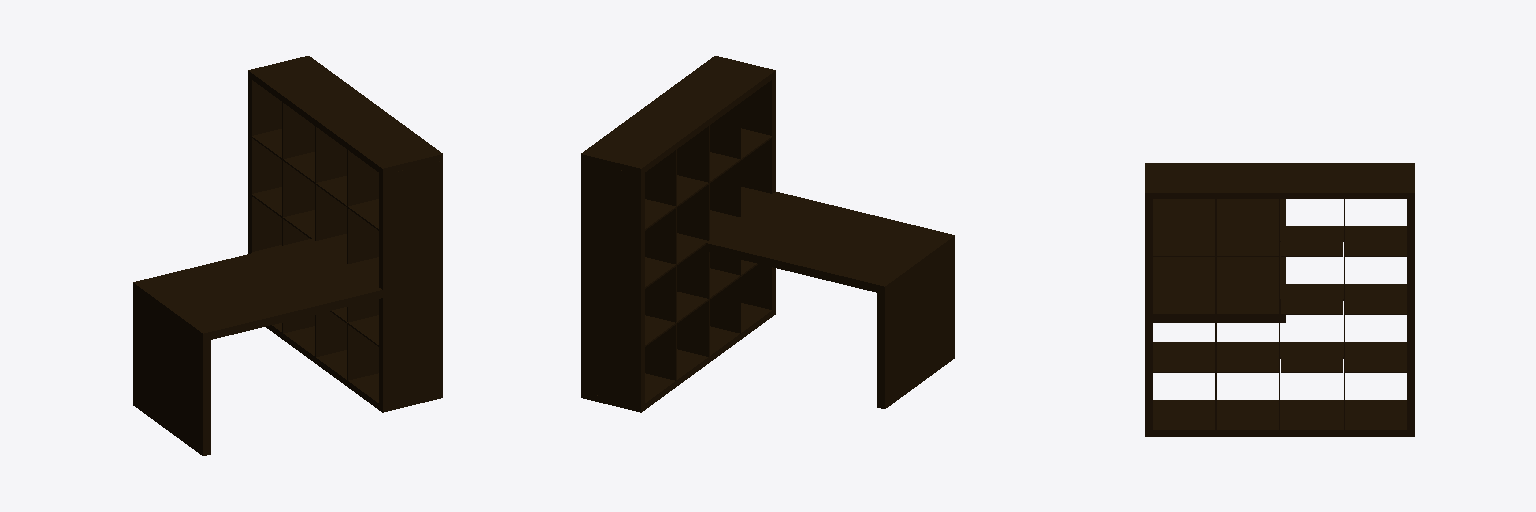
The picture shows the model from 3 angles: view 1: azimuth 30°, elevation 25°; view 2: azimuth 150°, elevation 25°; view 3: azimuth 270°, elevation 25°; orthographic projection.
Parts seen in each view (by area): view 1: Mesh4 Group6 Group4 Group3 EXPEDIT_149_X_[number redacted]_10_05_19_40_11_, Mesh1 Group2 Group1 Model, Mesh5 Group7 Group4 Group3 EXPEDIT_149_X_[number redacted]_10_05_19_40_11_, Mesh13 Group1 Model, Mesh8 Group12 Group10 Group9 Group3 EXPEDIT_149_X_[number redacted]_10_05_, Mesh2 Group5 Group4 Group3 EXPEDIT_149_X_[number redacted]_10_05_19_40_11_, Mesh9 Group13 Group10 Group9 Group3 EXPEDIT_149_X_[number redacted]_10_05_, Mesh7 Group11 Group10 Group9 Group3 EXPEDIT_149_X_[number redacted]_10_05_, Mesh6 Group8 Group4 Group3 EXPEDIT_149_X_[number redacted]_10_05_19_40_11_, Mesh10 Group15 Group14 Group9 Group3 EXPEDIT_149_X_[number redacted]_10_05, Mesh12 Group17 Group14 Group9 Group3 EXPEDIT_149_X_[number redacted]_10_05, Mesh11 Group16 Group14 Group9 Group3 EXPEDIT_149_X_[number redacted]_10_05; view 2: Mesh2 Group5 Group4 Group3 EXPEDIT_149_X_[number redacted]_10_05_19_40_11_, Mesh1 Group2 Group1 Model, Mesh5 Group7 Group4 Group3 EXPEDIT_149_X_[number redacted]_10_05_19_40_11_, Mesh13 Group1 Model, Mesh9 Group13 Group10 Group9 Group3 EXPEDIT_149_X_[number redacted]_10_05_, Mesh7 Group11 Group10 Group9 Group3 EXPEDIT_149_X_[number redacted]_10_05_, Mesh8 Group12 Group10 Group9 Group3 EXPEDIT_149_X_[number redacted]_10_05_, Mesh4 Group6 Group4 Group3 EXPEDIT_149_X_[number redacted]_10_05_19_40_11_, Mesh6 Group8 Group4 Group3 EXPEDIT_149_X_[number redacted]_10_05_19_40_11_, Mesh10 Group15 Group14 Group9 Group3 EXPEDIT_149_X_[number redacted]_10_05, Mesh12 Group17 Group14 Group9 Group3 EXPEDIT_149_X_[number redacted]_10_05, Mesh11 Group16 Group14 Group9 Group3 EXPEDIT_149_X_[number redacted]_10_05; view 3: Mesh5 Group7 Group4 Group3 EXPEDIT_149_X_[number redacted]_10_05_19_40_11_, Mesh6 Group8 Group4 Group3 EXPEDIT_149_X_[number redacted]_10_05_19_40_11_, Mesh11 Group16 Group14 Group9 Group3 EXPEDIT_149_X_[number redacted]_10_05, Mesh12 Group17 Group14 Group9 Group3 EXPEDIT_149_X_[number redacted]_10_05, Mesh10 Group15 Group14 Group9 Group3 EXPEDIT_149_X_[number redacted]_10_05, Mesh1 Group2 Group1 Model, Mesh2 Group5 Group4 Group3 EXPEDIT_149_X_[number redacted]_10_05_19_40_11_, Mesh4 Group6 Group4 Group3 EXPEDIT_149_X_[number redacted]_10_05_19_40_11_, Mesh13 Group1 Model.
Part boxes in pixels (x1,y1,x2,y2): Mesh4 Group6 Group4 Group3 EXPEDIT_149_X_[number redacted]_10_05_19_40_11_: (379, 161, 442, 405); Mesh1 Group2 Group1 Model: (133, 239, 382, 341); Mesh5 Group7 Group4 Group3 EXPEDIT_149_X_[number redacted]_10_05_19_40_11_: (248, 56, 442, 174); Mesh13 Group1 Model: (133, 291, 210, 455); Mesh8 Group12 Group10 Group9 Group3 EXPEDIT_149_X_[number redacted]_10_05_: (347, 150, 378, 380); Mesh2 Group5 Group4 Group3 EXPEDIT_149_X_[number redacted]_10_05_19_40_11_: (248, 77, 281, 253); Mesh9 Group13 Group10 Group9 Group3 EXPEDIT_149_X_[number redacted]_10_05_: (315, 126, 346, 356); Mesh7 Group11 Group10 Group9 Group3 EXPEDIT_149_X_[number redacted]_10_05_: (282, 102, 314, 333); Mesh6 Group8 Group4 Group3 EXPEDIT_149_X_[number redacted]_10_05_19_40_11_: (266, 323, 382, 412); Mesh10 Group15 Group14 Group9 Group3 EXPEDIT_149_X_[number redacted]_10_05: (252, 129, 378, 230); Mesh12 Group17 Group14 Group9 Group3 EXPEDIT_149_X_[number redacted]_10_05: (252, 187, 378, 286); Mesh11 Group16 Group14 Group9 Group3 EXPEDIT_149_X_[number redacted]_10_05: (252, 245, 378, 346); Mesh2 Group5 Group4 Group3 EXPEDIT_149_X_[number redacted]_10_05_19_40_11_: (581, 161, 644, 405); Mesh1 Group2 Group1 Model: (706, 192, 954, 294); Mesh5 Group7 Group4 Group3 EXPEDIT_149_X_[number redacted]_10_05_19_40_11_: (581, 56, 775, 174); Mesh13 Group1 Model: (877, 244, 954, 408); Mesh9 Group13 Group10 Group9 Group3 EXPEDIT_149_X_[number redacted]_10_05_: (677, 126, 709, 356); Mesh7 Group11 Group10 Group9 Group3 EXPEDIT_149_X_[number redacted]_10_05_: (645, 150, 676, 380); Mesh8 Group12 Group10 Group9 Group3 EXPEDIT_149_X_[number redacted]_10_05_: (710, 103, 740, 333); Mesh4 Group6 Group4 Group3 EXPEDIT_149_X_[number redacted]_10_05_19_40_11_: (741, 77, 775, 309); Mesh6 Group8 Group4 Group3 EXPEDIT_149_X_[number redacted]_10_05_19_40_11_: (581, 303, 775, 412); Mesh10 Group15 Group14 Group9 Group3 EXPEDIT_149_X_[number redacted]_10_05: (645, 128, 772, 230); Mesh12 Group17 Group14 Group9 Group3 EXPEDIT_149_X_[number redacted]_10_05: (645, 187, 771, 288); Mesh11 Group16 Group14 Group9 Group3 EXPEDIT_149_X_[number redacted]_10_05: (645, 260, 757, 346); Mesh5 Group7 Group4 Group3 EXPEDIT_149_X_[number redacted]_10_05_19_40_11_: (1145, 163, 1414, 198); Mesh6 Group8 Group4 Group3 EXPEDIT_149_X_[number redacted]_10_05_19_40_11_: (1145, 400, 1414, 436); Mesh11 Group16 Group14 Group9 Group3 EXPEDIT_149_X_[number redacted]_10_05: (1153, 342, 1406, 372); Mesh12 Group17 Group14 Group9 Group3 EXPEDIT_149_X_[number redacted]_10_05: (1153, 284, 1406, 314); Mesh10 Group15 Group14 Group9 Group3 EXPEDIT_149_X_[number redacted]_10_05: (1153, 226, 1406, 256); Mesh1 Group2 Group1 Model: (1153, 199, 1285, 283); Mesh2 Group5 Group4 Group3 EXPEDIT_149_X_[number redacted]_10_05_19_40_11_: (1407, 199, 1414, 429); Mesh4 Group6 Group4 Group3 EXPEDIT_149_X_[number redacted]_10_05_19_40_11_: (1145, 199, 1152, 429); Mesh13 Group1 Model: (1153, 301, 1285, 322).
Size of the model in its own units: 0.589 by 0.5714 by 0.5715.